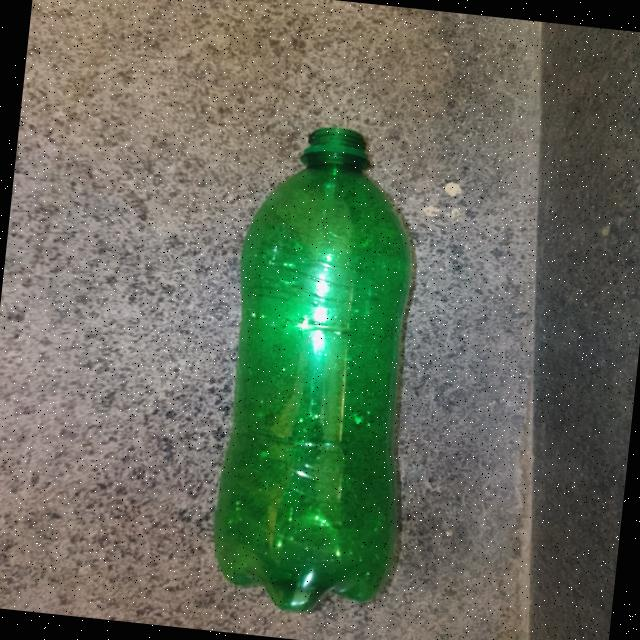bottle: (191, 104, 462, 628)
